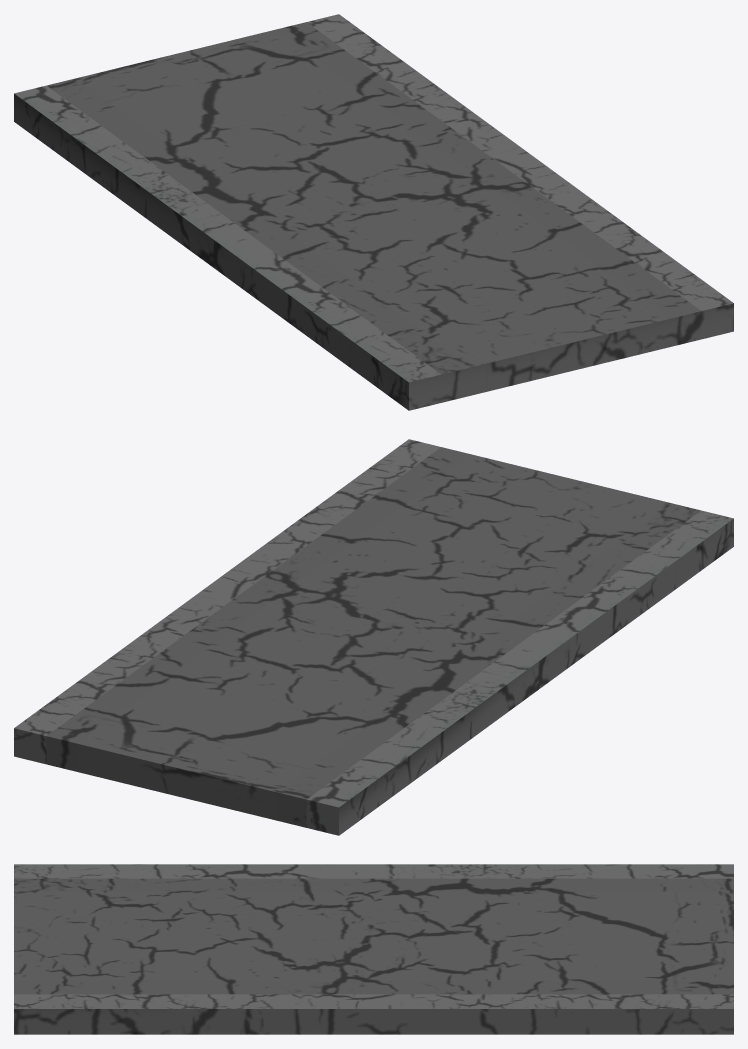
File: FloorTile.fbx
3 renders of one model, top to bottom at view 1: azimuth 30°, elevation 25°; view 2: azimuth 150°, elevation 25°; view 3: azimuth 270°, elevation 25°, orthographic. The views are drawn at different scales.
Visible parts, largest first — view 1: pCube17; view 2: pCube17; view 3: pCube17.
Boxes of the visible parts, left/top/right/bottom form: pCube17: left=14, top=14, right=733, bottom=410; pCube17: left=14, top=439, right=733, bottom=835; pCube17: left=14, top=864, right=733, bottom=1034.
Size of the model in its own units: 16.81 by 1.4 by 35.37.
Materials: 1 (1 with a texture image).
